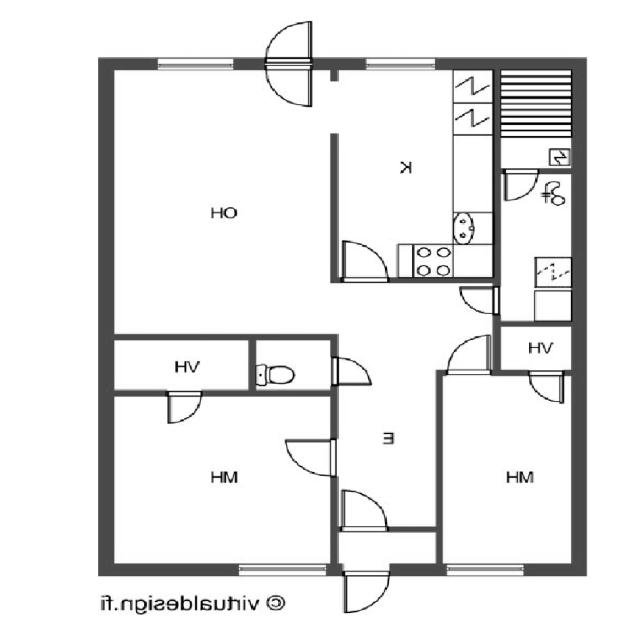door: (259, 19, 323, 112), (276, 432, 339, 476), (335, 236, 393, 281), (336, 483, 393, 528), (343, 566, 392, 616), (441, 333, 495, 372), (452, 279, 507, 313), (328, 354, 375, 388), (526, 369, 570, 404), (166, 388, 202, 428), (502, 170, 542, 205)
window: (346, 52, 446, 76), (124, 53, 257, 71), (236, 556, 329, 580), (439, 558, 525, 574)
zone: (108, 65, 330, 332), (105, 388, 333, 570), (333, 60, 492, 281), (441, 371, 579, 567), (496, 170, 578, 324), (496, 60, 573, 170), (96, 335, 249, 389), (251, 335, 331, 389), (492, 327, 578, 372)
